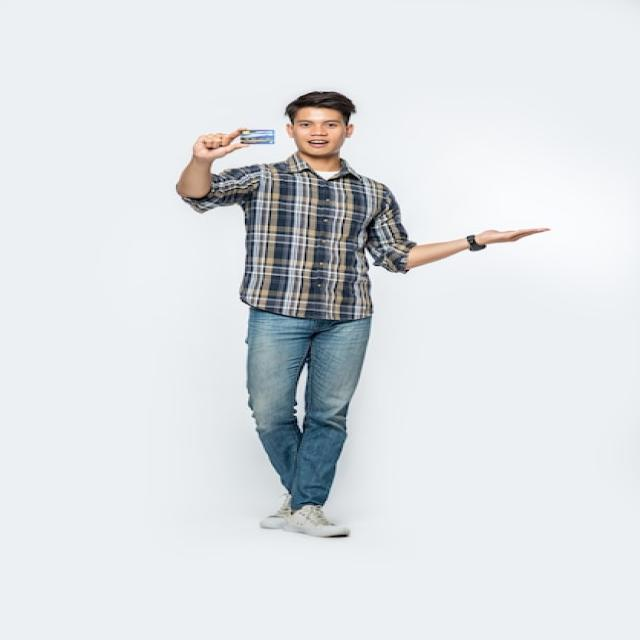Person: (176, 92, 551, 538)
